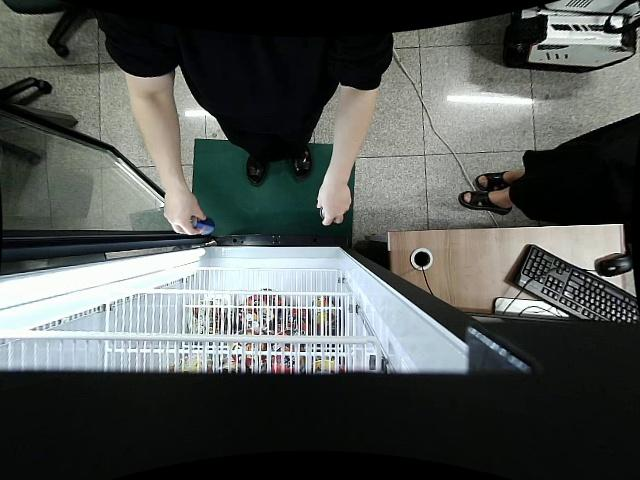00_hand: (163, 193, 207, 237), (316, 182, 351, 227)
16_hot6: (188, 213, 217, 240)
